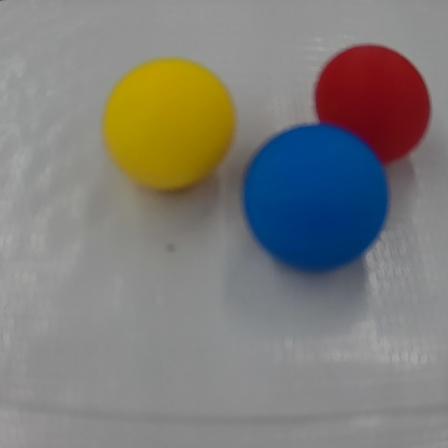blue: (241, 122, 393, 279)
red: (308, 37, 437, 173)
yellow: (100, 61, 237, 197)
